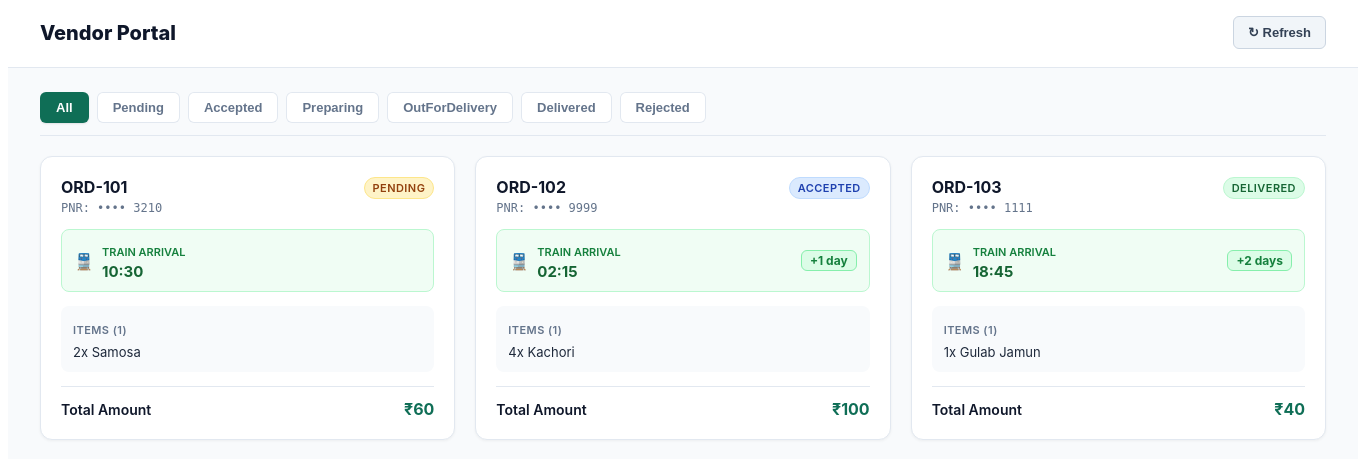
RB-403: VendorDashboard with arrival time and order fulfillment › VendorDashboard states and interactions › renders tabs and filters orders by status
The width and height of the screenshot is (1366, 459).
Expected: the heading "ORD-101" is shown, [61, 177, 128, 197]
Expected: the heading "ORD-102" is shown, [496, 177, 566, 197]
# Filter by Accepted
Click the button "Accepted" at [233, 108], box [188, 92, 278, 123]
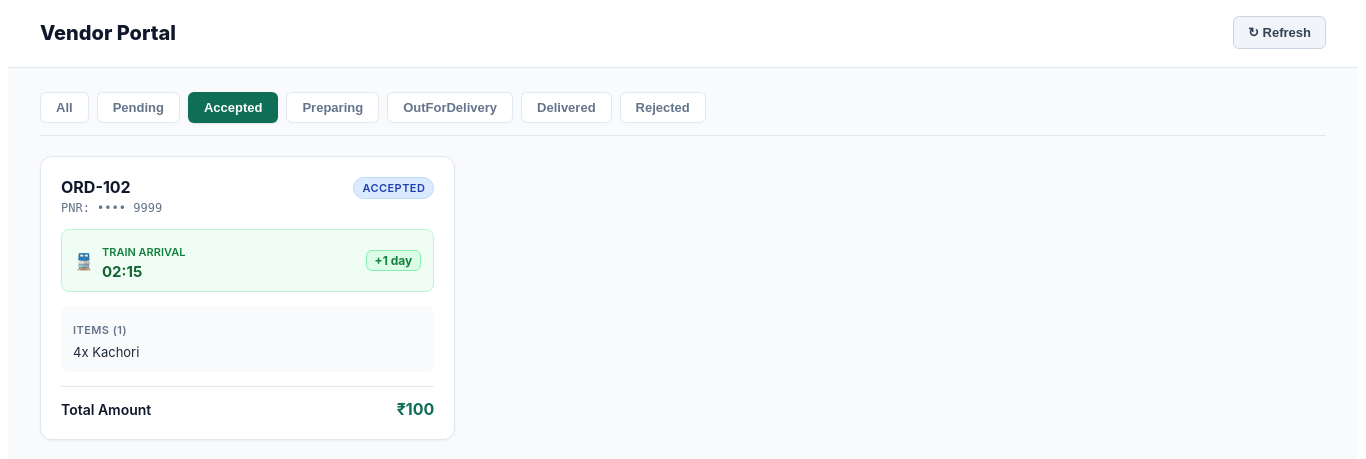
Expected: the heading "ORD-102" is shown, [61, 177, 131, 197]
Expected: the heading "ORD-101" is gone
Expected: the heading "ORD-103" is gone
# Filter by All
Click the button "All" at [64, 108], box [40, 92, 89, 123]
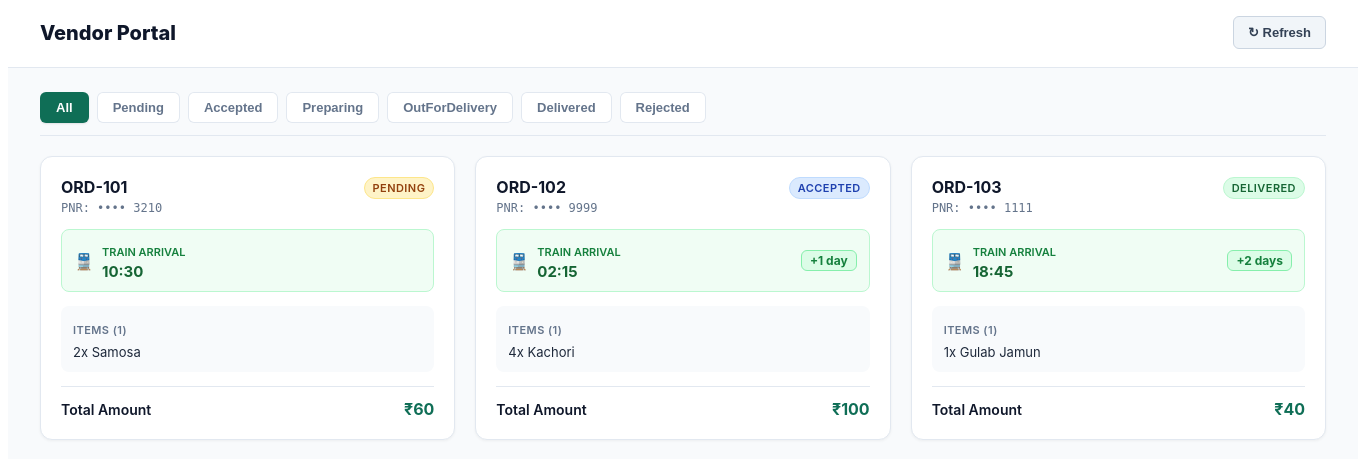
Expected: the heading "ORD-102" is shown, [496, 177, 566, 197]
Expected: the heading "ORD-101" is shown, [61, 177, 128, 197]
Expected: the heading "ORD-103" is shown, [932, 177, 1002, 197]
